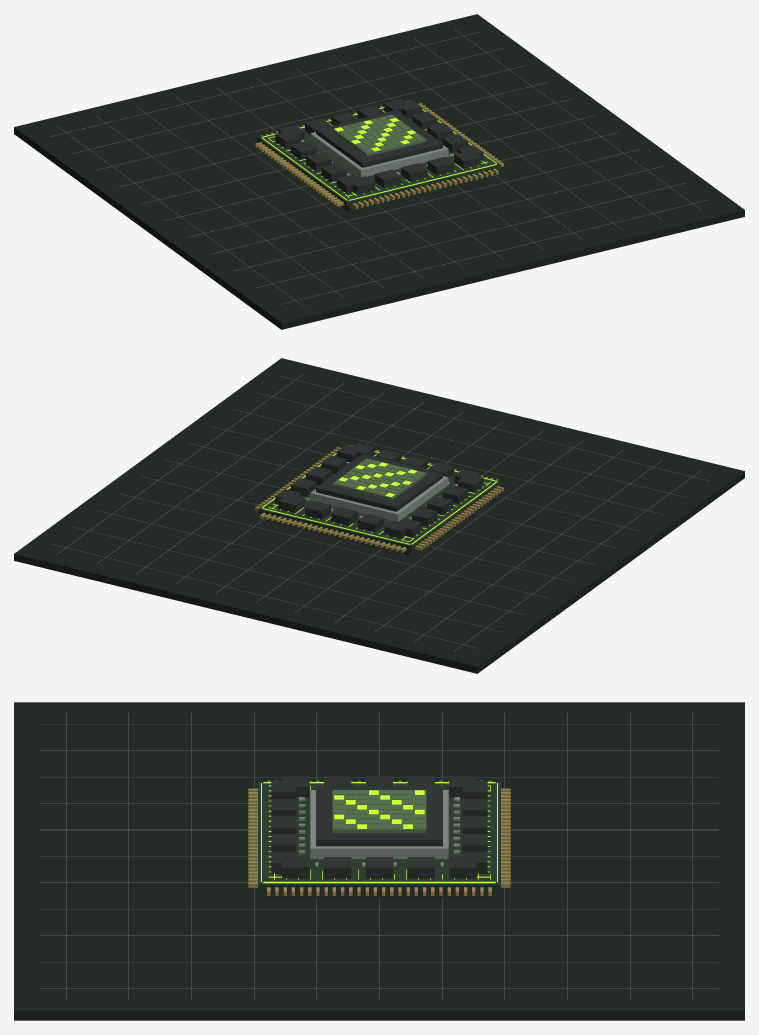
File: evidence-chip.glb
The picture shows the model from 3 angles, top to bottom: view 1: azimuth 30°, elevation 25°; view 2: azimuth 150°, elevation 25°; view 3: azimuth 270°, elevation 25°; orthographic projection. The views are drawn at different scales.
Visible parts, largest first — view 1: Evidence processor; view 2: Evidence processor; view 3: Evidence processor.
Part boxes in pixels (left/top/right/bottom): Evidence processor: left=14, top=14, right=744, bottom=329; Evidence processor: left=14, top=358, right=744, bottom=673; Evidence processor: left=14, top=702, right=744, bottom=1020.
Size of the model in its own units: 14 by 1.2 by 14.
